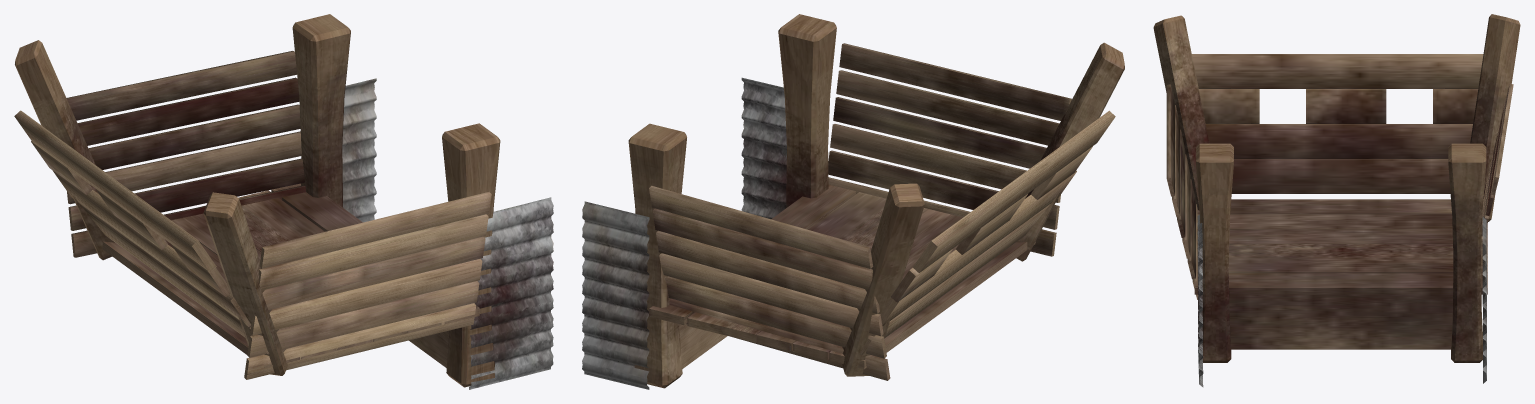
The model's file is trench_pit.glb.
The picture shows the model from 3 angles, left to right: view 1: azimuth 30°, elevation 25°; view 2: azimuth 150°, elevation 25°; view 3: azimuth 270°, elevation 25°; orthographic projection. The views are drawn at different scales.
Parts seen in each view (by area): view 1: Object204_Elavated Pit Section_0; view 2: Object204_Elavated Pit Section_0; view 3: Object204_Elavated Pit Section_0.
Boxes of the visible parts, bbox=[...] form: Object204_Elavated Pit Section_0: bbox=[14, 14, 553, 389]; Object204_Elavated Pit Section_0: bbox=[582, 14, 1124, 389]; Object204_Elavated Pit Section_0: bbox=[1153, 14, 1520, 387].
Size of the model in its own units: 3.58 by 2.6 by 3.68.
1 material, 1 textured.
